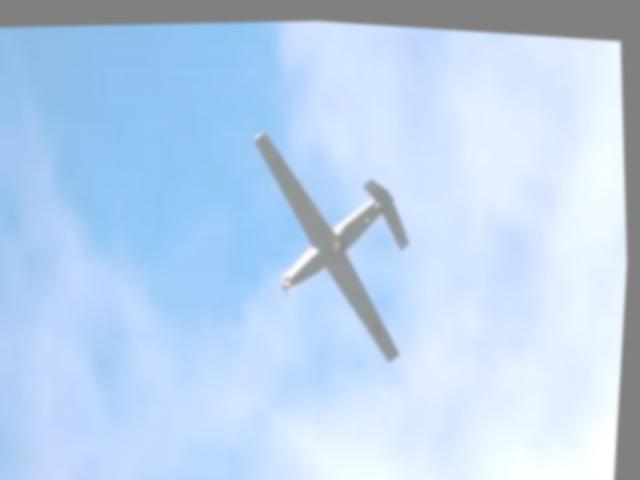uav: (244, 114, 428, 367)
